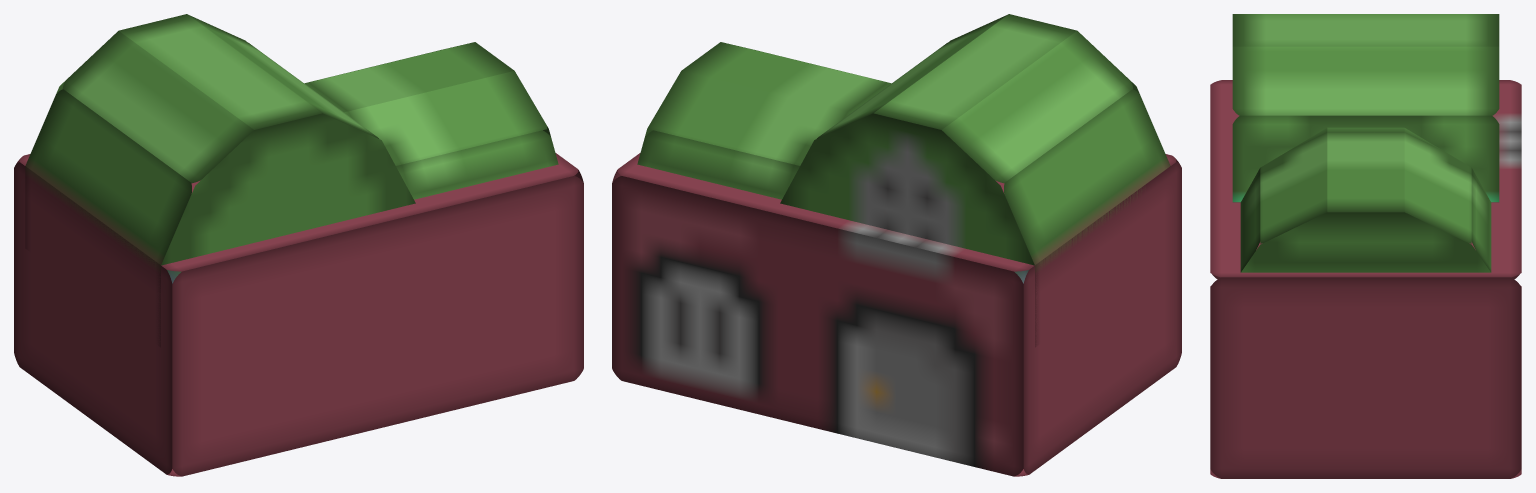
Rendered from HouseTest.obj.
3 views of the same model, side by side, from view 1: azimuth 30°, elevation 25°; view 2: azimuth 150°, elevation 25°; view 3: azimuth 270°, elevation 25° (orthographic).
Parts seen in each view (by area): view 1: cuboid, cylinder; view 2: cuboid, cylinder; view 3: cuboid, cylinder.
Part boxes in pixels (box(x1,y1,x2,y2)): cuboid: box(14, 153, 583, 476); cylinder: box(25, 14, 558, 347); cuboid: box(612, 153, 1181, 476); cylinder: box(637, 14, 1170, 347); cuboid: box(1210, 80, 1521, 478); cylinder: box(1232, 14, 1499, 272).
Bounding box in the file's own units: 1.31 × 0.9688 × 0.875.
